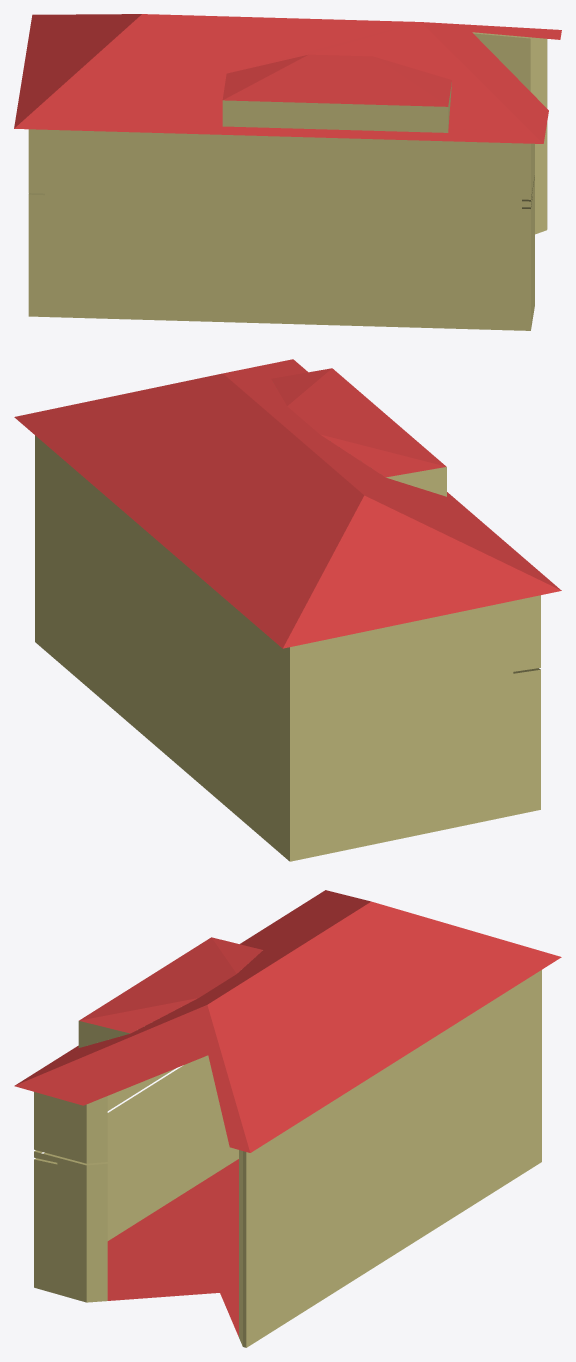
3 views of the same model, one above another, from view 1: azimuth 30°, elevation 25°; view 2: azimuth 150°, elevation 25°; view 3: azimuth 270°, elevation 25° (orthographic). The views are drawn at different scales.
Parts seen in each view (by area): view 1: group_7, group_3, group_4, group_5, group_6; view 2: group_7, group_3, group_4, group_5, group_6; view 3: group_7, group_3, group_8, group_4, group_5, group_6.
Boxes of the visible parts, bbox=[...] form: group_7: bbox=[28, 32, 547, 330]; group_3: bbox=[14, 14, 561, 143]; group_4: bbox=[222, 54, 451, 106]; group_5: bbox=[222, 82, 451, 132]; group_6: bbox=[14, 117, 542, 143]; group_7: bbox=[35, 435, 540, 861]; group_3: bbox=[14, 360, 561, 648]; group_4: bbox=[271, 368, 446, 477]; group_5: bbox=[386, 467, 446, 496]; group_6: bbox=[286, 359, 561, 590]; group_7: bbox=[34, 970, 541, 1347]; group_3: bbox=[14, 890, 561, 1152]; group_8: bbox=[107, 1159, 238, 1336]; group_4: bbox=[79, 937, 262, 1033]; group_5: bbox=[78, 1021, 144, 1047]; group_6: bbox=[15, 890, 329, 1085].
Bounding box in the file's own units: 32.31 × 28.44 × 15.39.
